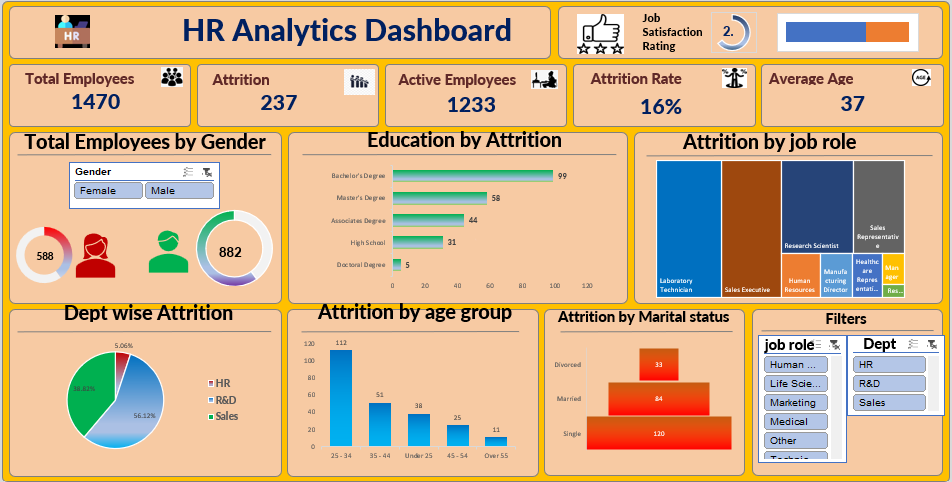

The page's visual inventory and layout, read from the dashboard file:
{"tool":"tableau","page":{"name":"HR Analytics Dashboard","canvas":[1580,900],"ordinal":0},"visuals":[{"type":"image","param":"Image/HR background.png","box":[8,8,1564,884]},{"type":"text","box":[51,27,1479,54]},{"type":"worksheet","title":"attrition by gender","mark":"Automatic","rows":["Gender"],"cols":["Calculation_0749622007705601","Calculation_0749622007705601"],"box":[1359,97,202,132]},{"type":"worksheet","title":"KPI","mark":"Automatic","box":[42,106,1293,110]},{"type":"worksheet","title":"Job satisfaction rating","mark":"Square","rows":["Job Role"],"cols":["Job Satisfaction"],"box":[1033,247,534,338]},{"type":"worksheet","title":"No of employee by age group","mark":"Automatic","rows":["Employee Count"],"cols":["Age (bin)"],"box":[488,248,526,353]},{"type":"worksheet","title":"Department_wise_attrition","mark":"Pie","box":[30,251,433,349]},{"type":"legend","title":"No of employee by age group","param":"[federated.0jtdgkq0vq75ji14km5v411da5ab].[sum:Employee Count:qk]","box":[871,289,140,88]},{"type":"legend","title":"Department_wise_attrition","param":"[federated.0jtdgkq0vq75ji14km5v411da5ab].[none:Department:nk]","box":[31,512,140,85]},{"type":"filter","title":"Department_wise_attrition","param":"[federated.0jtdgkq0vq75ji14km5v411da5ab].[none:Education:nk]","box":[310,565,160,43]},{"type":"worksheet","title":"Education field wise attrition ","mark":"Automatic","rows":["Education Field"],"cols":["Calculation_0749622007705601"],"box":[22,622,423,251]},{"type":"legend","title":"Attrition rate by gender for different age group","param":"[federated.0jtdgkq0vq75ji14km5v411da5ab].[none:Gender:nk]","box":[1314,625,243,56]},{"type":"worksheet","title":"Attrition rate by gender for different age group","mark":"Pie","rows":["Calculation_0141317556310018","Calculation_0141317556310018"],"cols":["CF_age band"],"box":[469,633,1085,241]}]}

Visuals, with their boxes on the page's 1580x900 design canvas (x1, y1, x2, y2). These are canvas units, not pixel positions in the 952x482 screenshot, which may show the page scaled, cropped or inside an application window:
image: 8:8:1572:892
text: 51:27:1530:81
"attrition by gender" worksheet: 1359:97:1561:229
"KPI" worksheet: 42:106:1335:216
"Job satisfaction rating" worksheet (Square marks): 1033:247:1567:585
"No of employee by age group" worksheet: 488:248:1014:601
"Department_wise_attrition" worksheet (Pie marks): 30:251:463:600
"No of employee by age group" legend: 871:289:1011:377
"Department_wise_attrition" legend: 31:512:171:597
"Department_wise_attrition" filter: 310:565:470:608
"Education field wise attrition " worksheet: 22:622:445:873
"Attrition rate by gender for different age group" legend: 1314:625:1557:681
"Attrition rate by gender for different age group" worksheet (Pie marks): 469:633:1554:874
